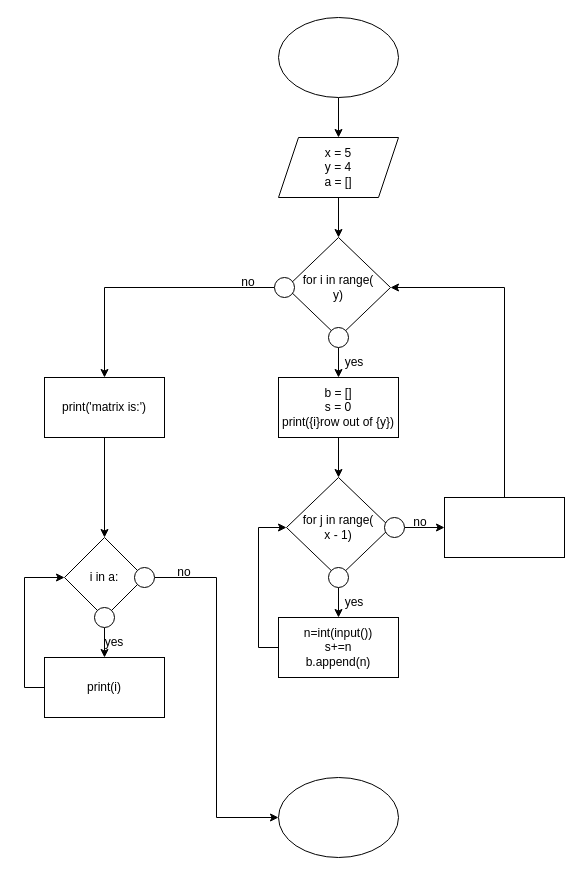
Some shapes in this 582 by 875 pixel diagram are drawn without their labels. The centre of each missing label's shape, as x and y in pixels:
"b.append(s) a.append(b)" goes at point (504, 527).
"Конец" goes at point (338, 817).
"Начало" goes at point (338, 57).
